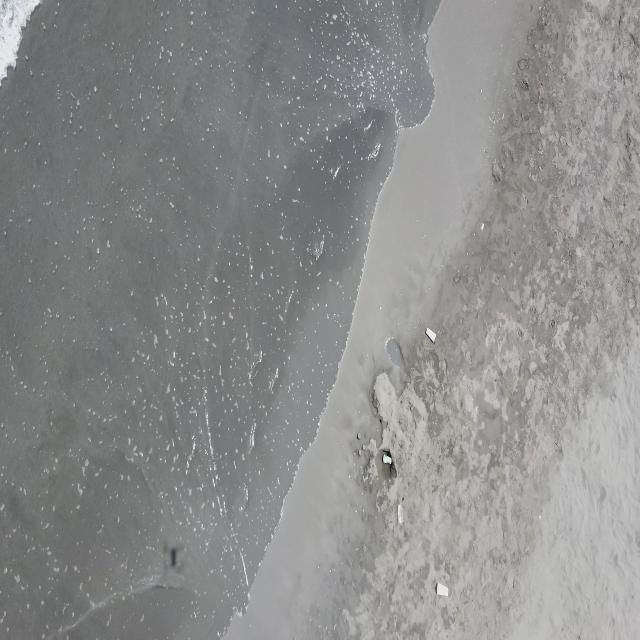takeaway-cup: (436, 583, 449, 598), (426, 326, 436, 344), (396, 504, 404, 524), (382, 454, 392, 465)
